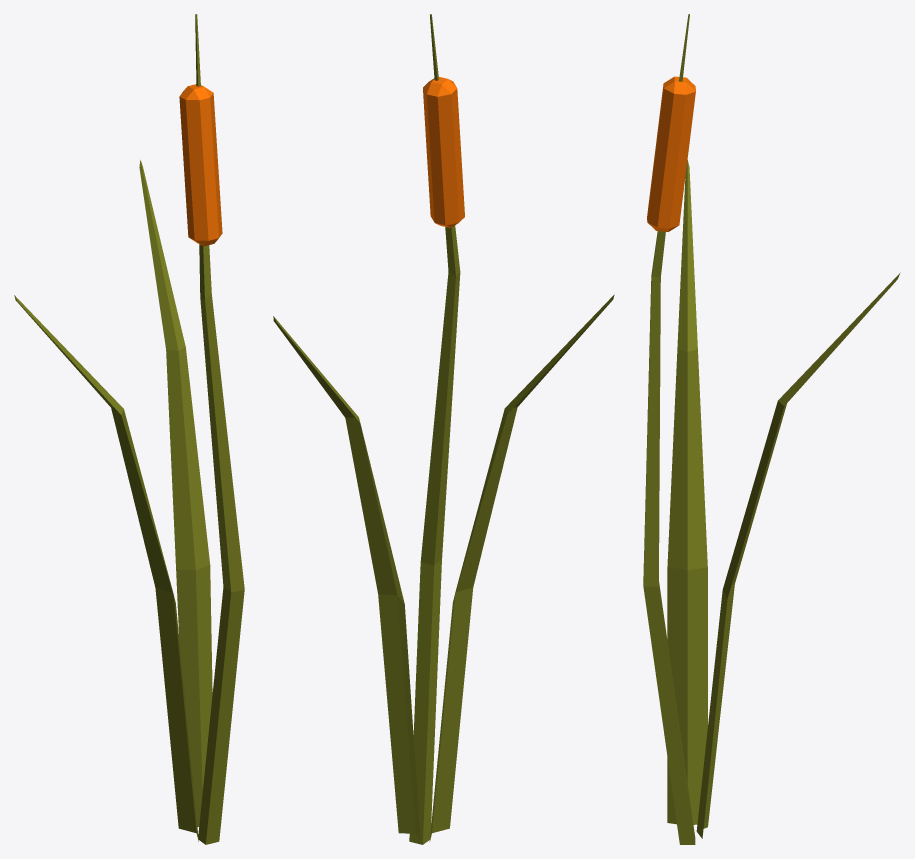
Rendered from Foliage_02.fbx.
The picture shows the model from 3 angles, left to right: view 1: azimuth 30°, elevation 25°; view 2: azimuth 150°, elevation 25°; view 3: azimuth 270°, elevation 25°; orthographic projection.
Parts seen in each view (by area): view 1: Foliage_02; view 2: Foliage_02; view 3: Foliage_02.
Boxes of the visible parts, x1,y1,x2,y2 form: Foliage_02: [14, 14, 244, 844]; Foliage_02: [273, 14, 614, 844]; Foliage_02: [643, 14, 900, 844].
Size of the model in its own units: 48.65 by 164 by 46.57.
